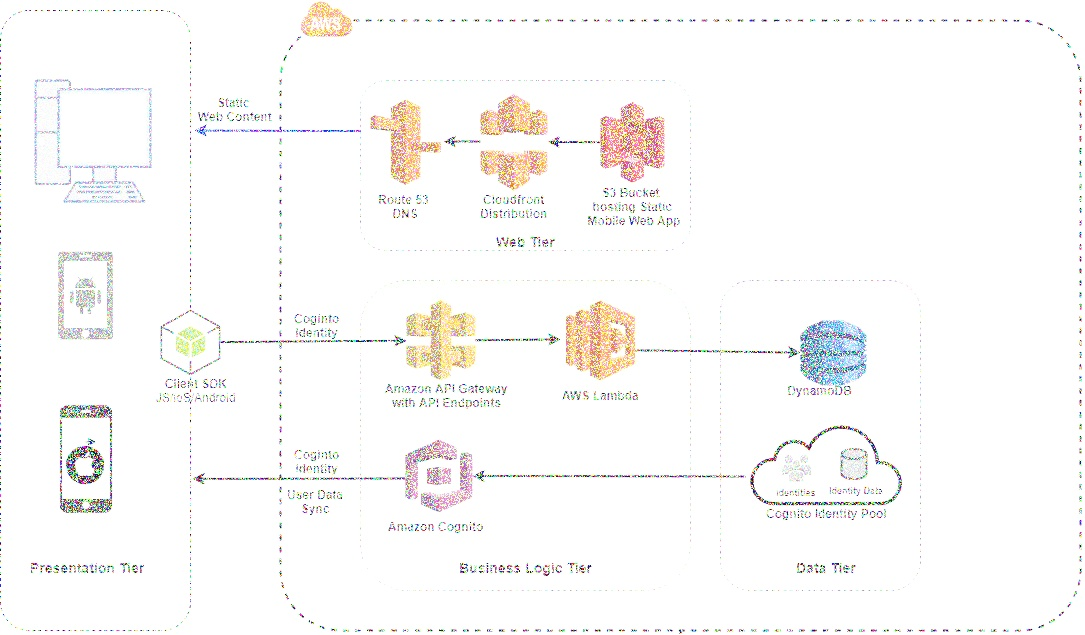API-Gateway: (399, 294, 483, 384)
Cloudfront: (477, 89, 554, 193)
Cognito: (397, 431, 481, 517)
Dynamo DB: (797, 304, 875, 389)
Internet: (749, 419, 908, 512)
Lambda: (562, 294, 643, 387)
Mobile Client: (49, 393, 127, 524), (51, 239, 119, 349)
Route53: (369, 91, 444, 188)
S3: (596, 88, 676, 185)
SDK: (151, 301, 229, 377)
Web Clients: (22, 61, 163, 212)
aws: (296, 1, 358, 40)
